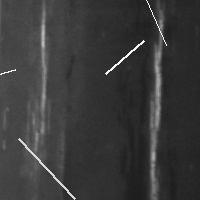scratches: (143, 10, 168, 198), (13, 133, 79, 200), (28, 16, 52, 153), (100, 36, 148, 79), (134, 0, 171, 50), (0, 65, 20, 84)
